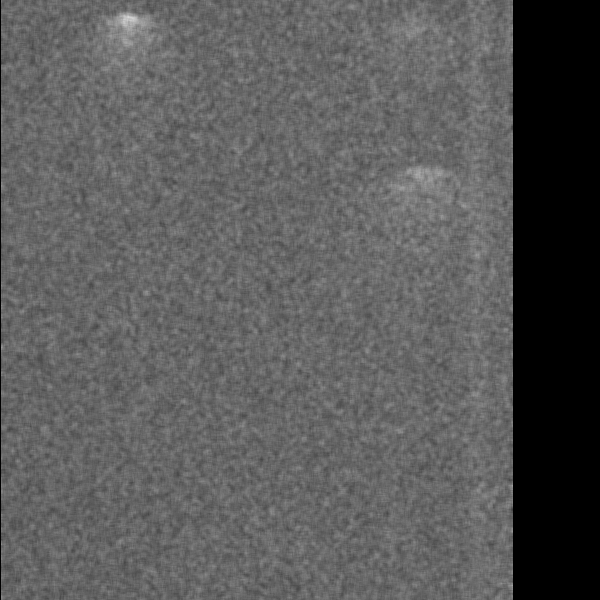spark: (107, 9, 150, 72), (385, 162, 468, 193), (338, 9, 376, 49)
